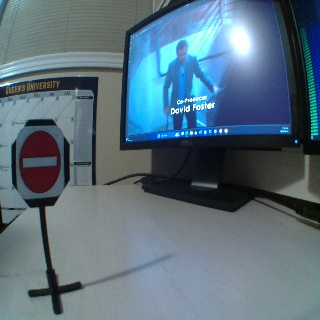sign_noentry: (15, 128, 63, 196)
